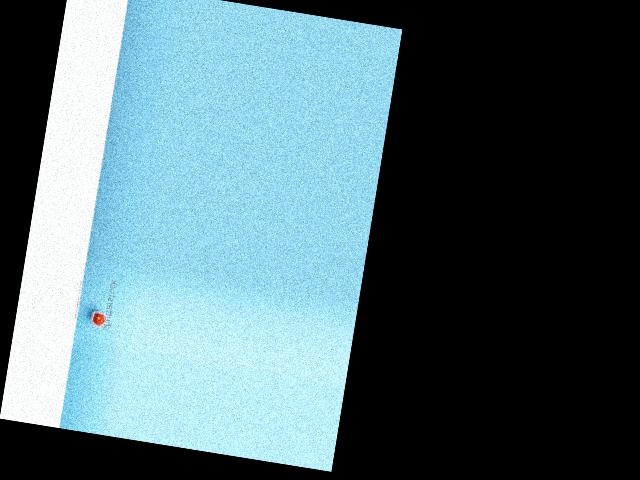tomato: (92, 312, 105, 324)
